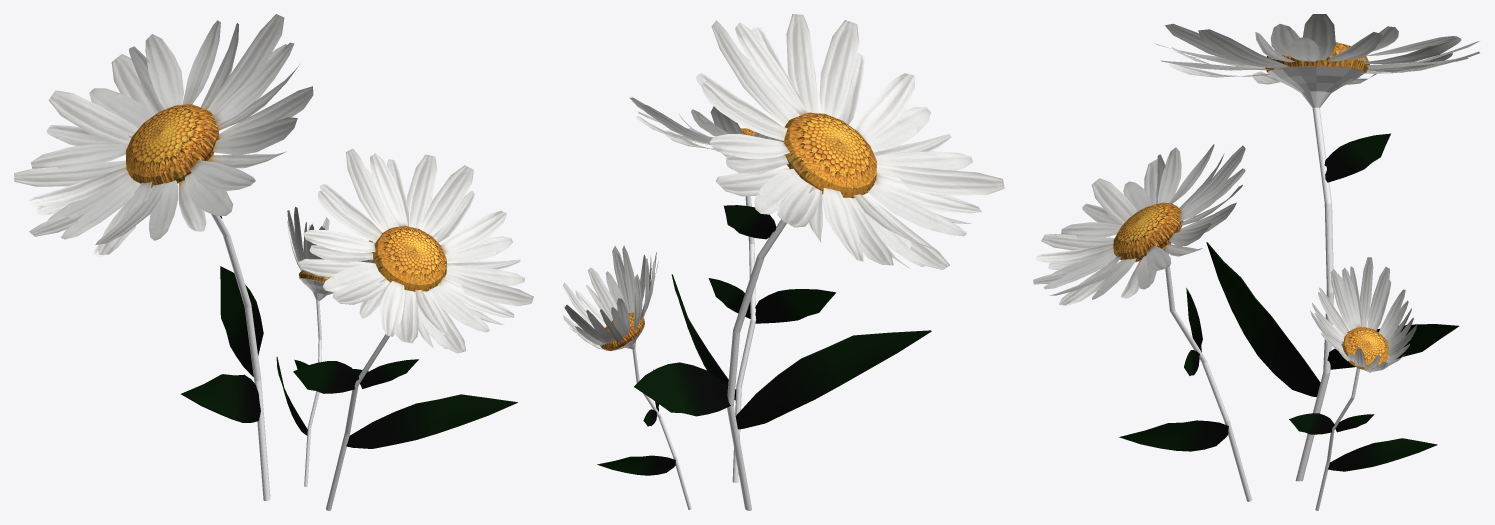
The model's file is Daisy_Stage_02.FBX.
3 renders of one model, left to right at view 1: azimuth 30°, elevation 25°; view 2: azimuth 150°, elevation 25°; view 3: azimuth 270°, elevation 25°, orthographic. The views are drawn at different scales.
Visible parts, largest first — view 1: Daisy; view 2: Daisy; view 3: Daisy.
Part boxes in pixels (x1,y1,x2,y2): Daisy: [14, 14, 533, 510]; Daisy: [562, 14, 1004, 510]; Daisy: [1033, 14, 1479, 510].
Bounding box in the file's own units: 24.78 × 29.19 × 24.45.
Materials: 2 (1 with a texture image).
